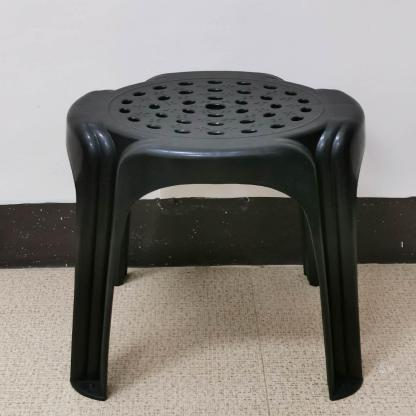chair: (53, 67, 386, 413)
